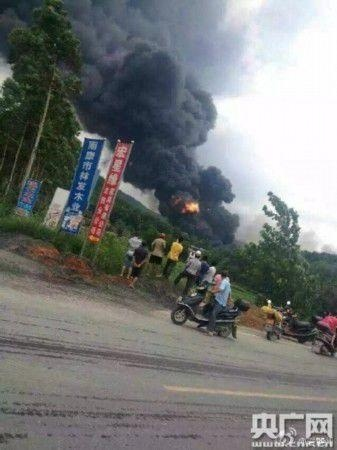fire: (182, 199, 199, 213)
